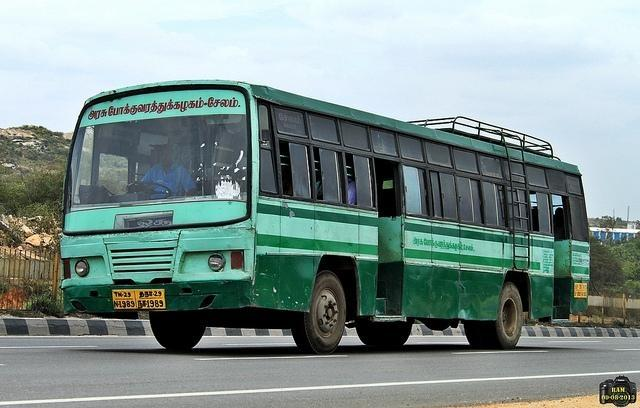bus: (59, 78, 592, 352)
